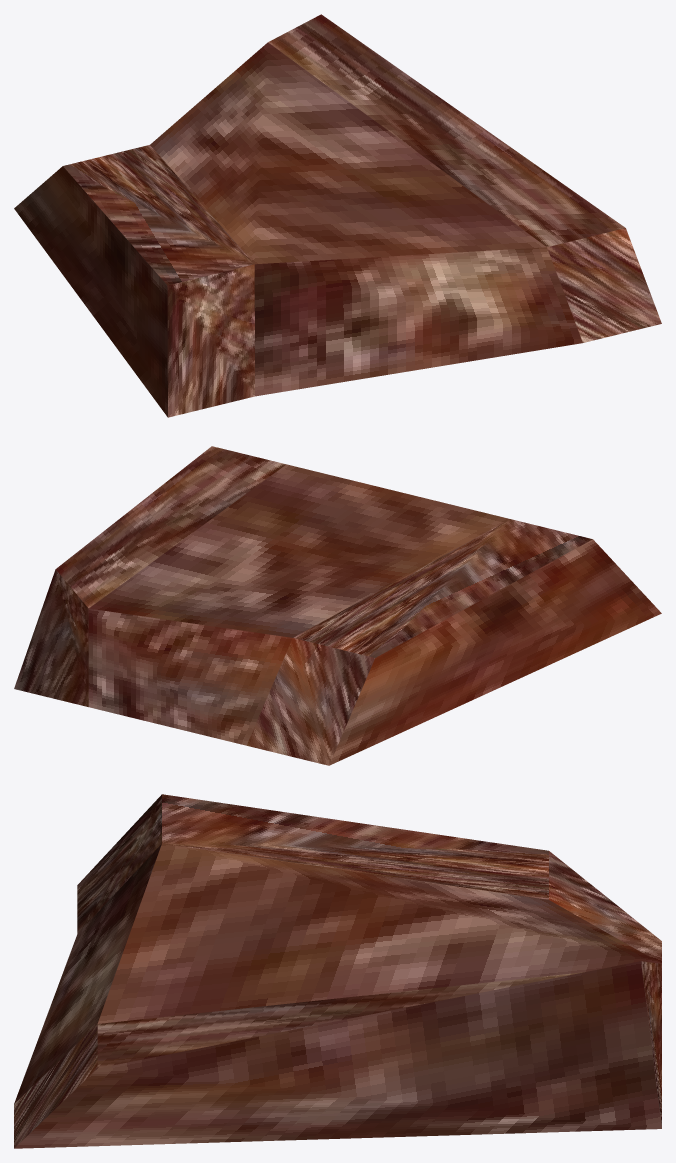
File: cookedmeat.glb
3 views of the same model, one above another, from view 1: azimuth 30°, elevation 25°; view 2: azimuth 150°, elevation 25°; view 3: azimuth 270°, elevation 25° (orthographic). The views are drawn at different scales.
Parts seen in each view (by area): view 1: cookedmeat; view 2: cookedmeat; view 3: cookedmeat.
Part boxes in pixels (x1,y1,x2,y2): cookedmeat: (14, 14, 661, 417); cookedmeat: (14, 446, 661, 765); cookedmeat: (14, 794, 661, 1148).
Bounding box in the file's own units: 0.4161 × 0.1092 × 0.4327.
Materials: 1 (1 with a texture image).
